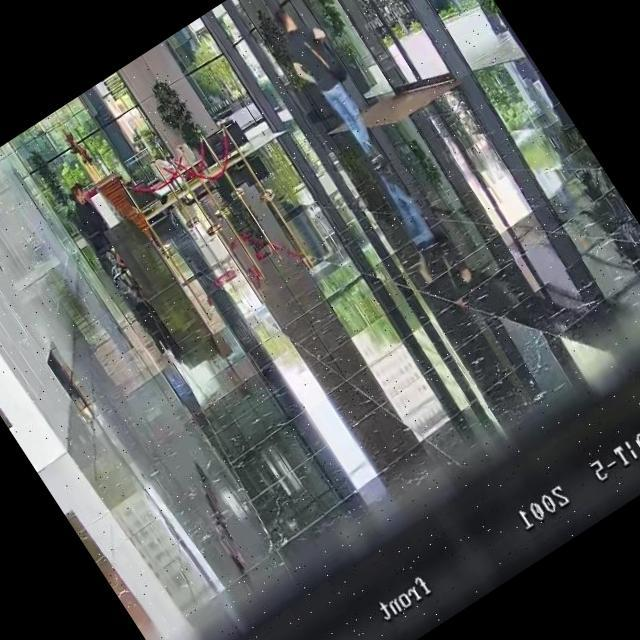person: (263, 0, 398, 169), (62, 183, 114, 250), (438, 0, 511, 39), (73, 180, 105, 224)
